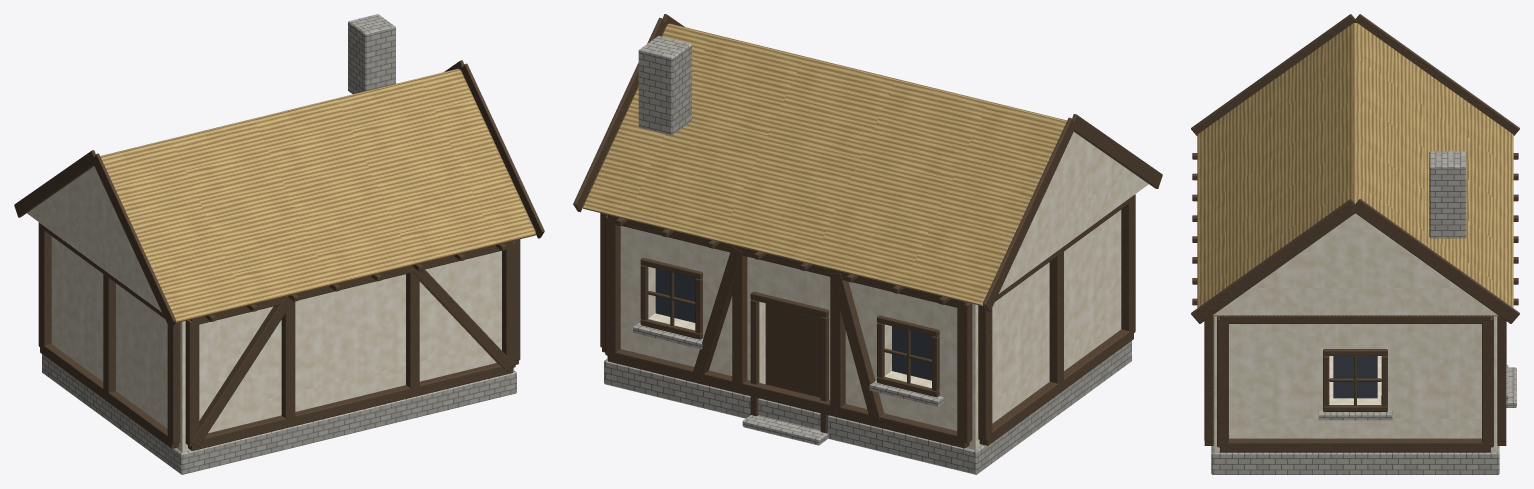
File: cottage-authored.glb
3 views of the same model, side by side, from view 1: azimuth 30°, elevation 25°; view 2: azimuth 150°, elevation 25°; view 3: azimuth 270°, elevation 25° (orthographic). The views are drawn at different scales.
Visible parts, largest first — view 1: Roof, Walls, TimberFrame, BaseOuter, Chimney; view 2: Roof, TimberFrame, Walls, BaseOuter, Chimney, Door, panel.001, panel, threshold, winSill, winSill.001; view 3: Roof, Walls, TimberFrame, BaseOuter, Chimney, panel.002, winSill.002, threshold.
Boxes of the visible parts, left/top/right/bottom form: Roof: left=27, top=69, right=535, bottom=322; Walls: left=51, top=236, right=513, bottom=452; TimberFrame: left=14, top=60, right=544, bottom=450; BaseOuter: left=42, top=354, right=516, bottom=474; Chimney: left=348, top=14, right=395, bottom=94; Roof: left=583, top=23, right=1148, bottom=305; TimberFrame: left=573, top=14, right=1162, bottom=448; Walls: left=607, top=210, right=1121, bottom=449; BaseOuter: left=604, top=341, right=1131, bottom=474; Chimney: left=638, top=36, right=691, bottom=135; Door: left=765, top=303, right=820, bottom=397; panel.001: left=655, top=268, right=695, bottom=322; panel: left=892, top=326, right=931, bottom=380; threshold: left=742, top=415, right=828, bottom=445; winSill: left=869, top=380, right=943, bottom=406; winSill.001: left=633, top=323, right=702, bottom=349; Roof: left=1197, top=23, right=1513, bottom=316; Walls: left=1213, top=316, right=1497, bottom=451; TimberFrame: left=1191, top=14, right=1519, bottom=452; BaseOuter: left=1211, top=446, right=1499, bottom=474; Chimney: left=1429, top=151, right=1466, bottom=238; panel.002: left=1333, top=356, right=1377, bottom=398; winSill.002: left=1318, top=410, right=1392, bottom=420; threshold: left=1506, top=367, right=1516, bottom=407.
Size of the model in its own units: 7.16 by 5.4 by 5.34.
6 materials, 4 textured.
